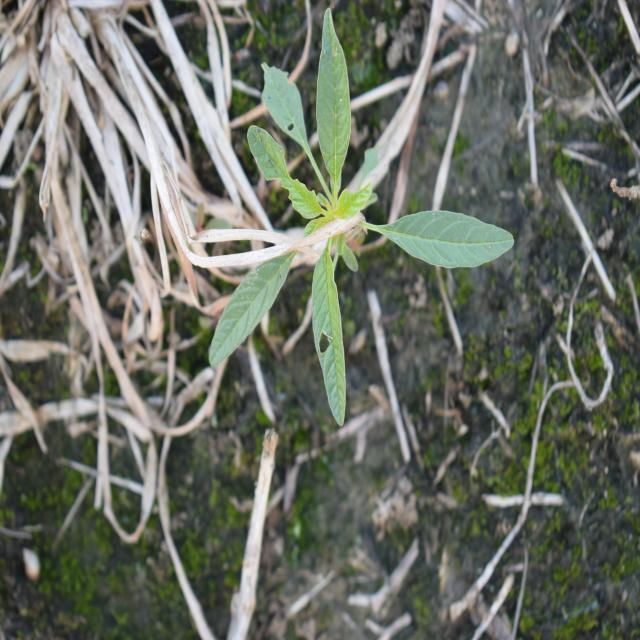Waterhemp: (207, 6, 517, 427)
